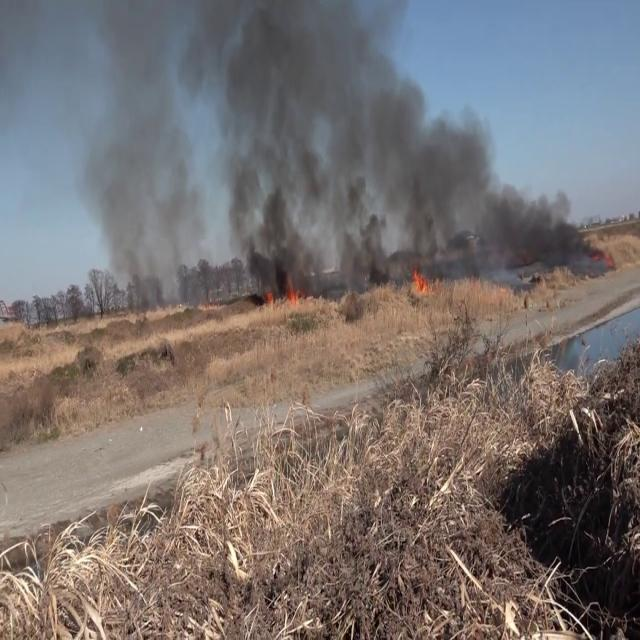Fire: (407, 258, 434, 296)
Smoke: (66, 1, 387, 300), (370, 80, 598, 278)
